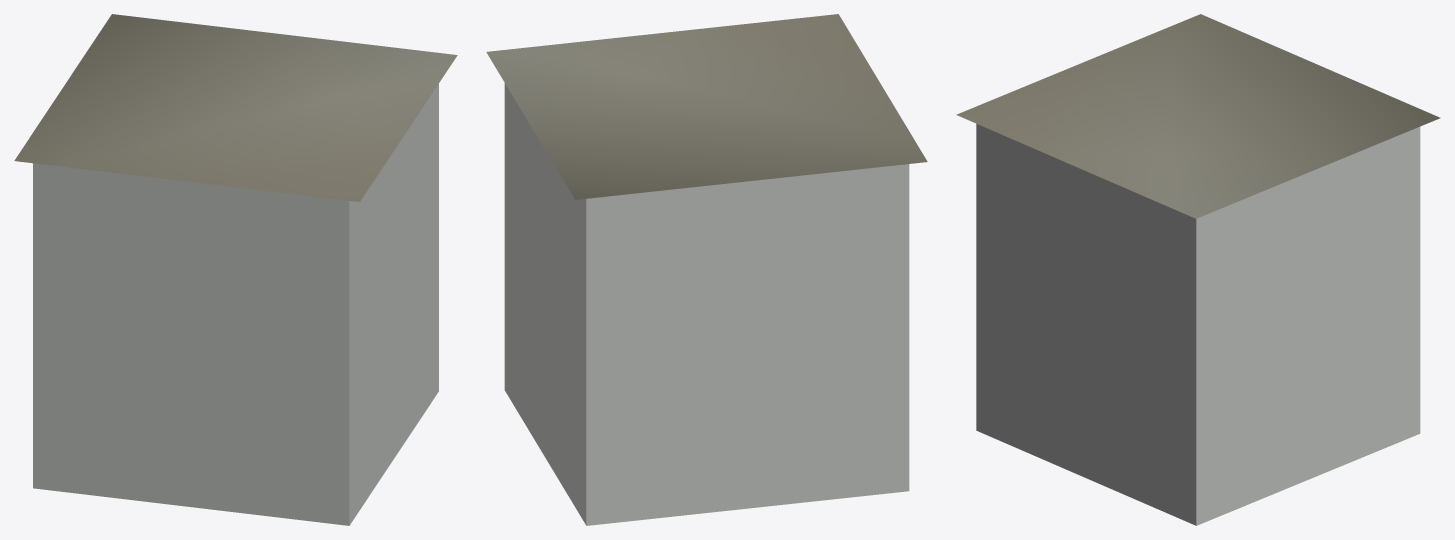
File: LSZH_-3_6.glb
3 views of the same model, side by side, from view 1: azimuth 30°, elevation 25°; view 2: azimuth 150°, elevation 25°; view 3: azimuth 270°, elevation 25° (orthographic). The views are drawn at different scales.
Visible parts, largest first — view 1: building_e98f8eb8a5ac97d5, building_9560d511f3f587cd; view 2: building_e98f8eb8a5ac97d5, building_9560d511f3f587cd; view 3: building_e98f8eb8a5ac97d5, building_9560d511f3f587cd.
Part boxes in pixels (left/top/right/bottom): building_e98f8eb8a5ac97d5: left=33, top=84, right=438, bottom=525; building_9560d511f3f587cd: left=14, top=14, right=457, bottom=201; building_e98f8eb8a5ac97d5: left=504, top=83, right=909, bottom=525; building_9560d511f3f587cd: left=486, top=14, right=927, bottom=199; building_e98f8eb8a5ac97d5: left=976, top=124, right=1420, bottom=525; building_9560d511f3f587cd: left=956, top=14, right=1440, bottom=218.
Size of the model in its own units: 8.37 by 6.01 by 8.37.
Materials: 2 (1 with a texture image).
